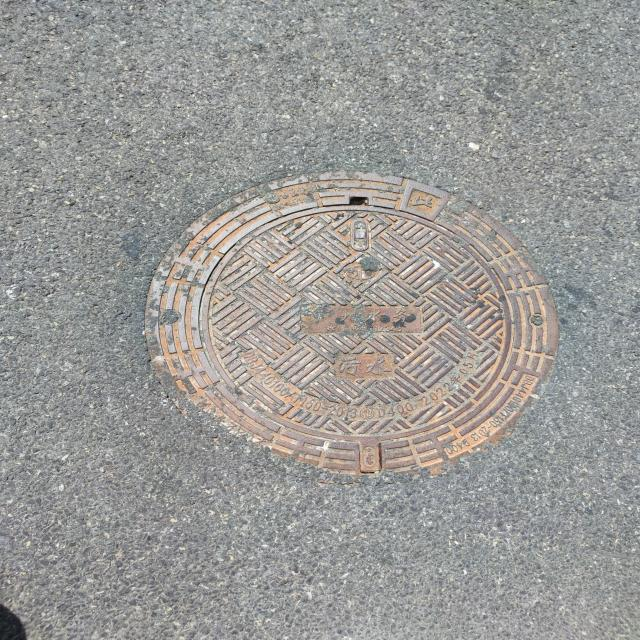Good: (142, 167, 562, 482)
